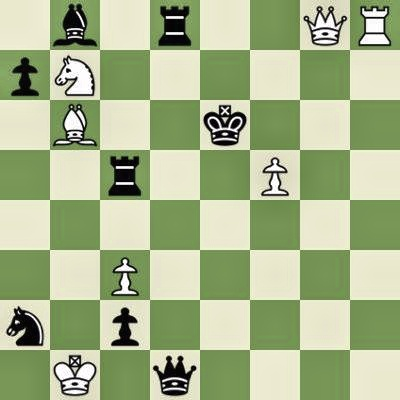black-bishop: (50, 0, 100, 50)
black-king: (200, 100, 250, 150)
black-knight: (0, 300, 50, 350)
black-pawn: (0, 50, 50, 100), (100, 300, 150, 350)
black-queen: (150, 350, 200, 400)
black-rook: (150, 0, 200, 50), (100, 150, 150, 200)
white-bishop: (50, 100, 100, 150)
white-king: (50, 350, 100, 400)
white-knight: (50, 50, 100, 100)
white-pawn: (250, 150, 300, 200), (100, 250, 150, 300)
white-queen: (300, 0, 350, 50)
white-rook: (350, 0, 400, 50)
